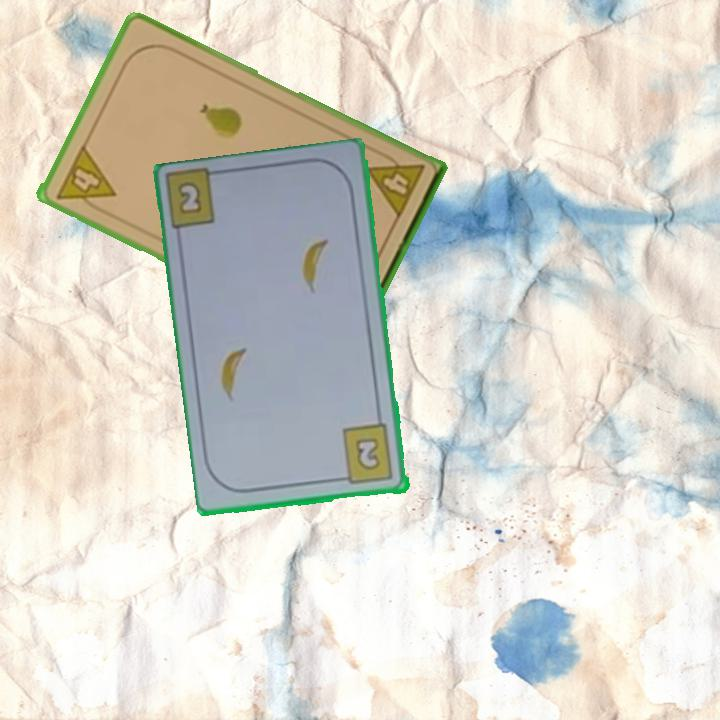2b: (335, 421, 397, 488), (172, 178, 206, 218)
4p: (52, 141, 118, 217), (363, 146, 428, 222)
